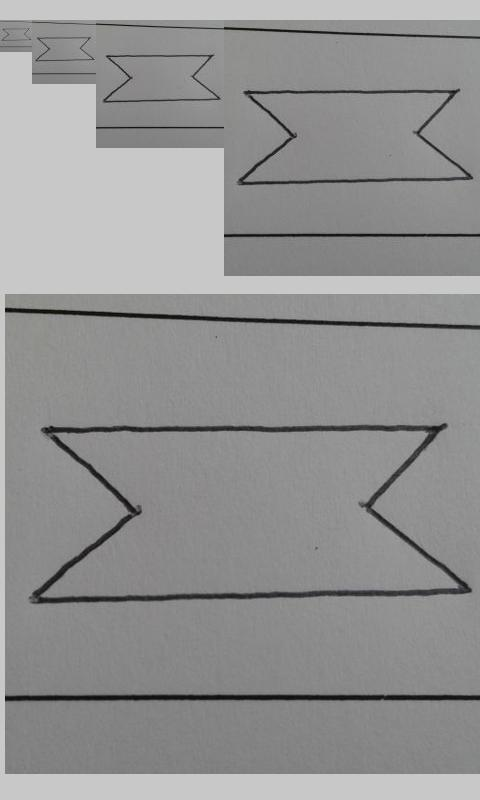edit_text: (30, 423, 468, 606), (238, 89, 473, 185), (103, 54, 219, 103), (35, 37, 93, 62), (1, 27, 30, 41)
